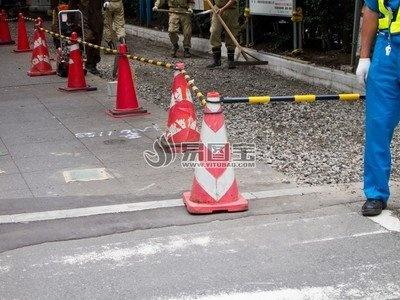cone_barrel: (354, 0, 397, 212), (180, 91, 247, 210), (156, 66, 201, 156), (106, 42, 145, 115), (59, 29, 90, 90), (26, 15, 52, 74), (13, 11, 29, 51)
